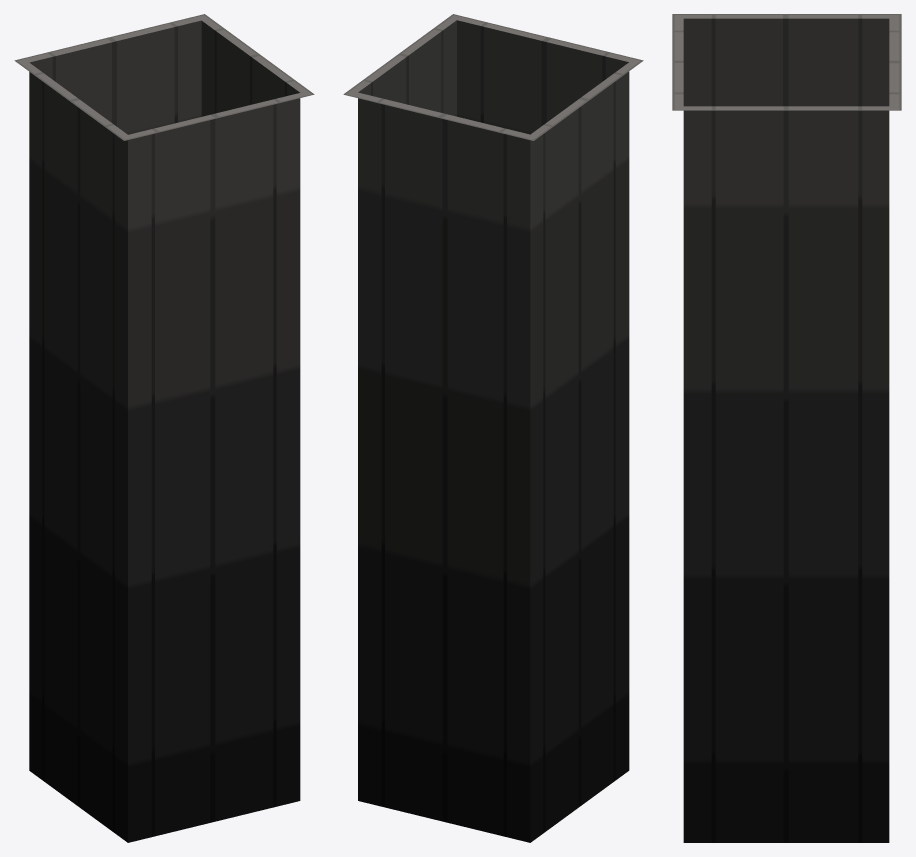
The model's file is SD_Prop_Pit_01.fbx.
3 renders of one model, left to right at view 1: azimuth 30°, elevation 25°; view 2: azimuth 150°, elevation 25°; view 3: azimuth 270°, elevation 25°, orthographic. The views are drawn at different scales.
Parts seen in each view (by area): view 1: SD_Prop_Pit_01; view 2: SD_Prop_Pit_01; view 3: SD_Prop_Pit_01.
Part boxes in pixels (bbox=[...]): SD_Prop_Pit_01: bbox=[14, 14, 314, 842]; SD_Prop_Pit_01: bbox=[343, 14, 643, 842]; SD_Prop_Pit_01: bbox=[672, 14, 901, 842].
Size of the model in its own units: 5 by 17.74 by 5.
